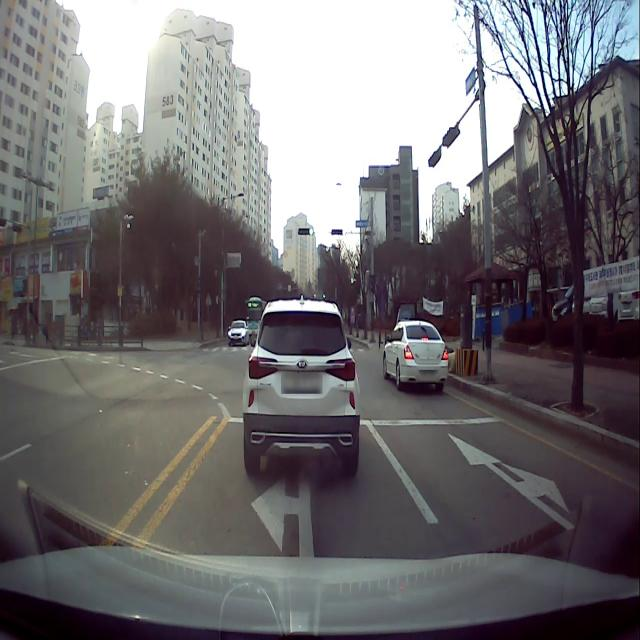Green Light: (342, 228, 347, 236), (309, 227, 313, 235)
